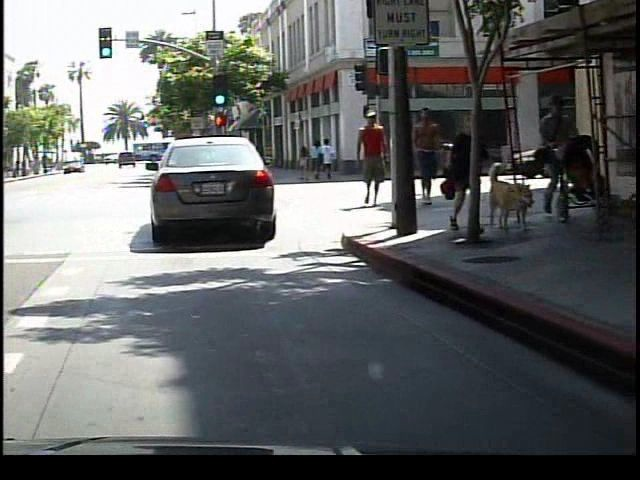person: (350, 107, 391, 214), (410, 103, 443, 207)
